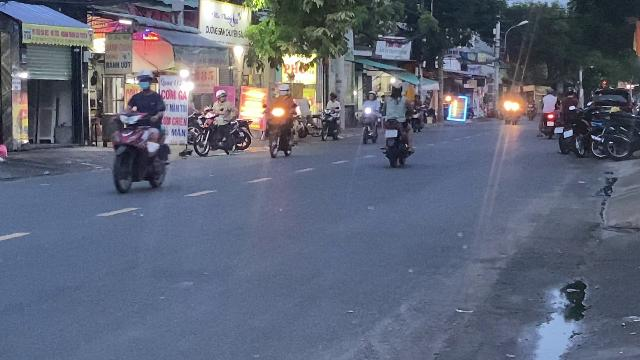helmet: (134, 68, 154, 90), (389, 78, 401, 94), (278, 84, 290, 96)
licenseplate: (385, 130, 397, 138)
motorcyclist: (105, 68, 173, 195), (379, 78, 415, 166), (263, 82, 297, 158)
